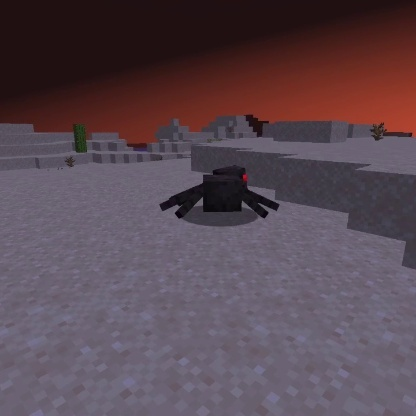spider: (157, 162, 283, 224)
